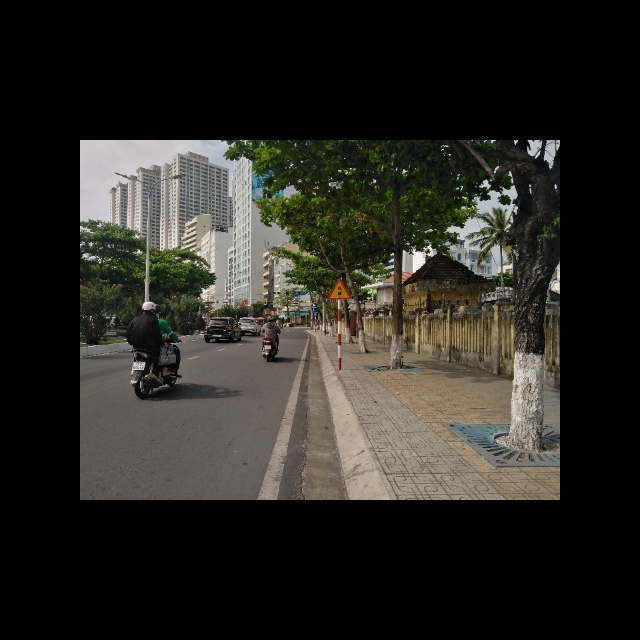Giao nhau có tín hiệu đèn: (327, 276, 352, 300)
